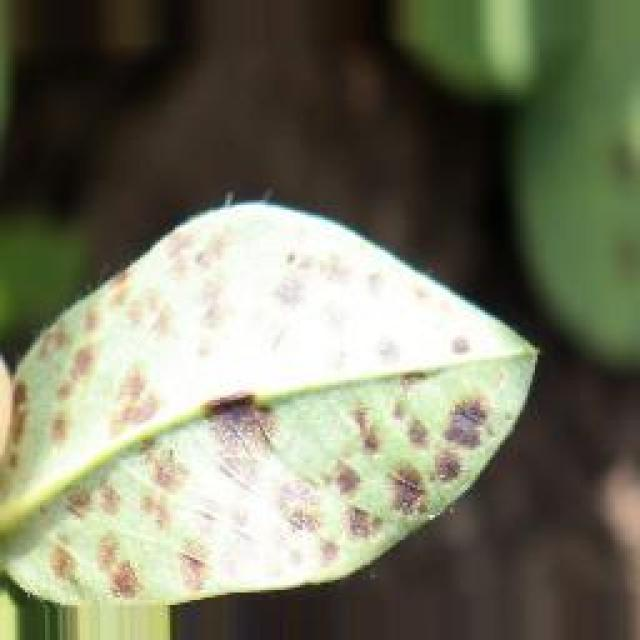Whitefly: (0, 213, 530, 611)
